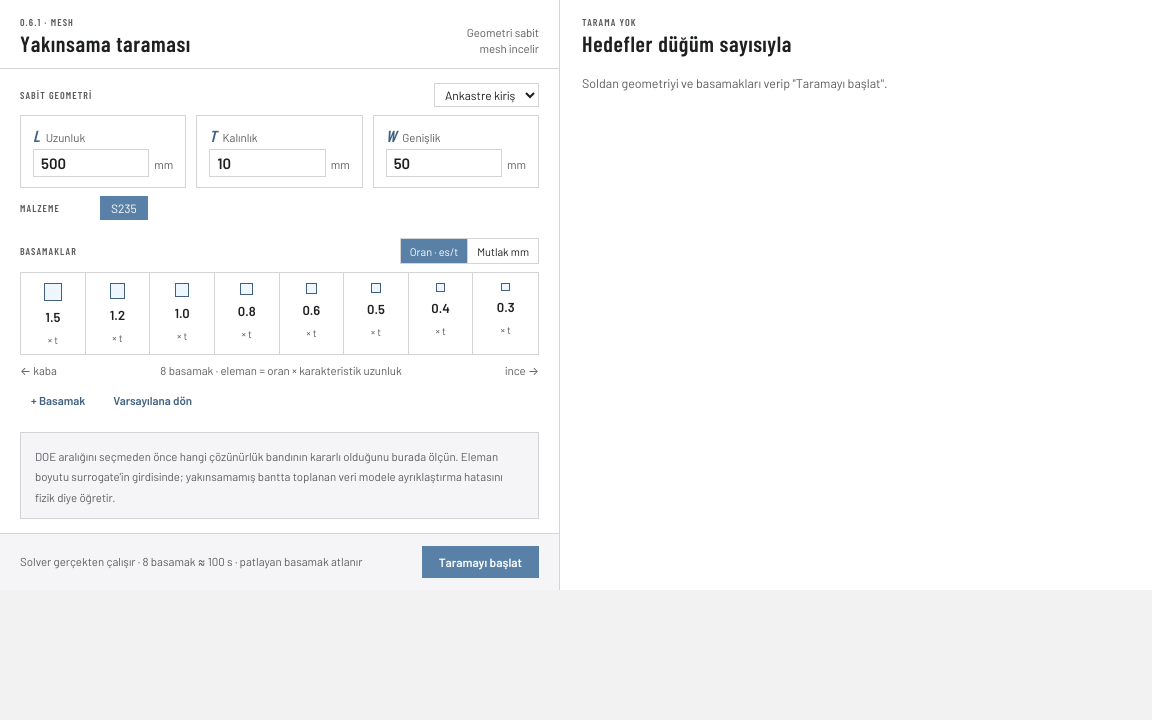
ConvergencePanel › hata mesajını gösterir ve tabloyu açmaz
Expected: the number field named "L · Uzunluk" is shown, [33, 149, 149, 177]
Step 1. Click the button "Taramayı başlat" → (480, 562), box [422, 546, 539, 578]
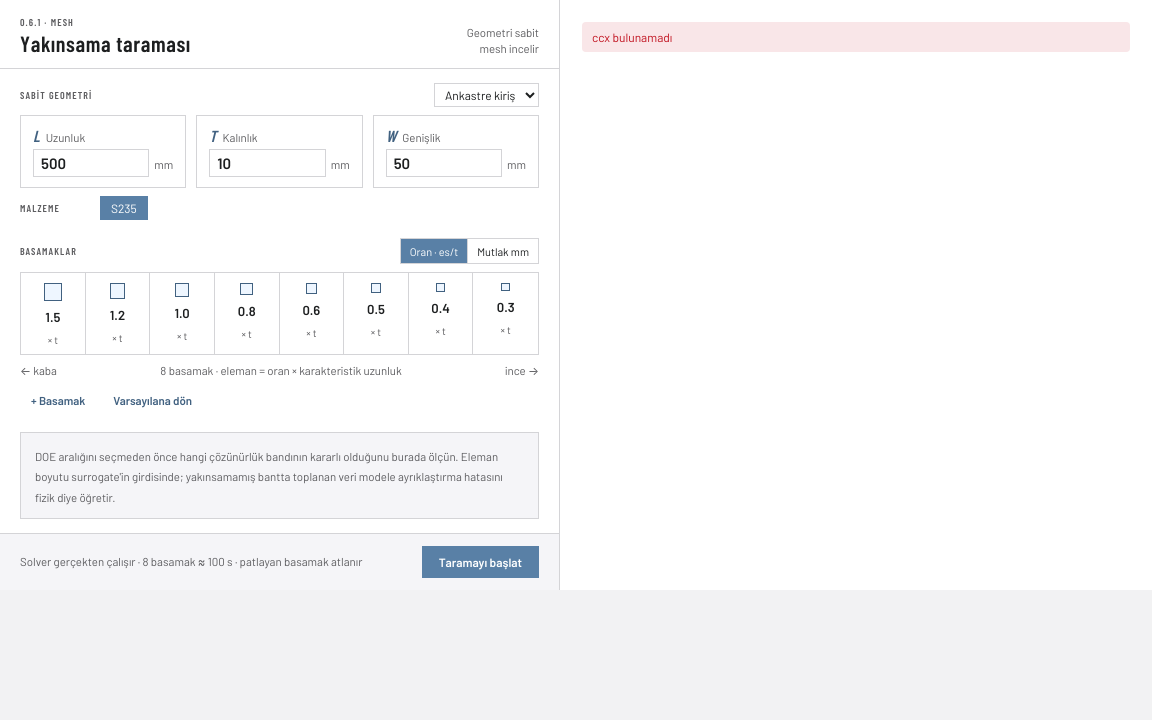
Expected: the text "ccx bulunamadı" is shown, [582, 22, 1130, 52]
